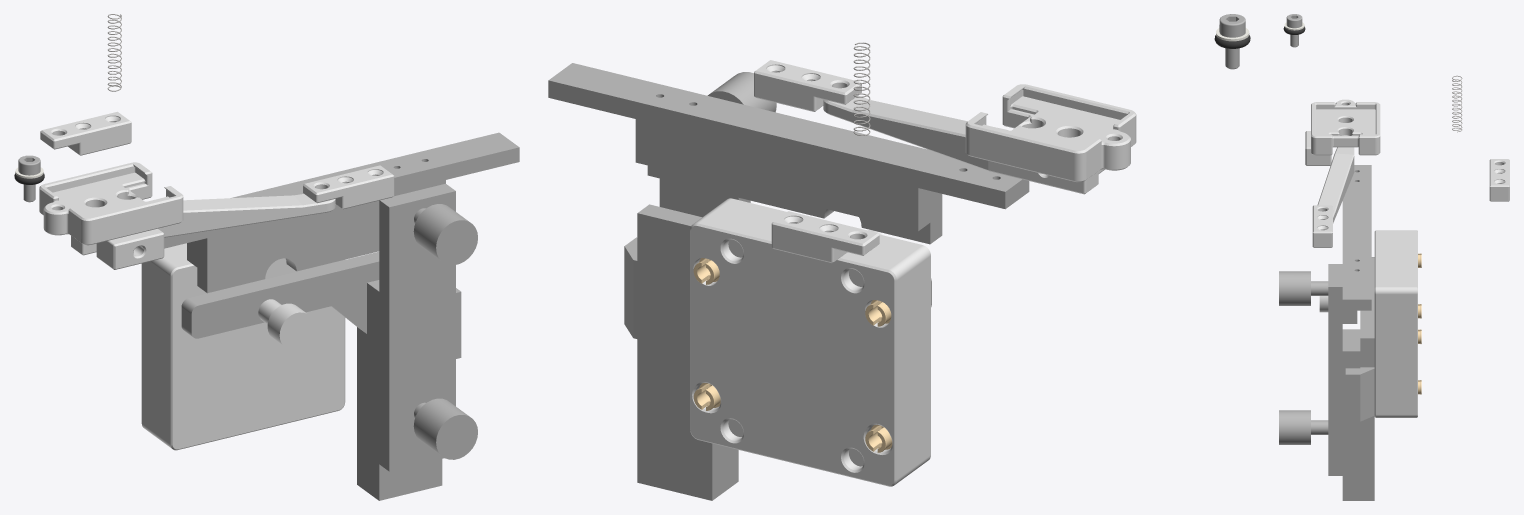
Rendered from ASS_-_3003_-_PUZMANXYSDIA002.glb.
3 renders of one model, left to right at view 1: azimuth 30°, elevation 25°; view 2: azimuth 150°, elevation 25°; view 3: azimuth 270°, elevation 25°, orthographic. The views are drawn at different scales.
Visible parts, largest first — view 1: BUY - XY stage - XXX --- X stage:1, PRT - 3006 - MANXYSMNT:1, BUY - XY stage - XXX --- Base:1, PRT - 3007 - DIAPLAHOL - A:1, BUY - XY stage - XXX --- Y stage:1, PRT - 3012 - LVR:1, PRT - 3013 - BRG:2, PRT - 3013 - BRG:1, PRT - 3011 - MNTZAX:1, ISO 4762 - Hex socket head cap screw - M3 x 8 - 8.8 - A2K:1, BUY - Gutekunst - Compression spring - VD-015:1; view 2: PRT - 3006 - MANXYSMNT:1, BUY - XY stage - XXX --- X stage:1, BUY - XY stage - XXX --- Y stage:1, BUY - XY stage - XXX --- Base:1, PRT - 3007 - DIAPLAHOL - A:1, PRT - 3012 - LVR:1, PRT - 3013 - BRG:2, PRT - 3013 - BRG:1, ISO 4762 - Hex socket head cap screw - M3 x 8 - 8.8 - A2K:1, BUY - Gutekunst - Compression spring - VD-015:1; view 3: PRT - 3006 - MANXYSMNT:1, BUY - XY stage - XXX --- Base:1, BUY - XY stage - XXX --- X stage:1, BUY - XY stage - XXX --- Y stage:1, PRT - 3007 - DIAPLAHOL - A:1, PRT - 3012 - LVR:1, PRT - 3013 - BRG:1, PRT - 3013 - BRG:2, PRT - 3011 - MNTZAX:1, BUY - Gutekunst - Compression spring - VD-015:1, ISO 4762 - Hex socket head cap screw - M3 x 8 - 8.8 - A2K:1.
Boxes of the visible parts, box(x1,y1,x2,y2) form: BUY - XY stage - XXX --- X stage:1: box(187, 180, 477, 471); PRT - 3006 - MANXYSMNT:1: box(141, 243, 345, 450); BUY - XY stage - XXX --- Base:1: box(181, 251, 461, 500); PRT - 3007 - DIAPLAHOL - A:1: box(39, 162, 183, 245); BUY - XY stage - XXX --- Y stage:1: box(164, 132, 519, 248); PRT - 3012 - LVR:1: box(71, 194, 335, 255); PRT - 3013 - BRG:2: box(40, 111, 131, 155); PRT - 3013 - BRG:1: box(303, 165, 394, 209); PRT - 3011 - MNTZAX:1: box(96, 228, 164, 269); ISO 4762 - Hex socket head cap screw - M3 x 8 - 8.8 - A2K:1: box(18, 155, 40, 202); BUY - Gutekunst - Compression spring - VD-015:1: box(107, 14, 121, 91); PRT - 3006 - MANXYSMNT:1: box(690, 198, 930, 486); BUY - XY stage - XXX --- X stage:1: box(635, 72, 942, 244); BUY - XY stage - XXX --- Y stage:1: box(548, 63, 1029, 209); BUY - XY stage - XXX --- Base:1: box(624, 204, 931, 500); PRT - 3007 - DIAPLAHOL - A:1: box(965, 84, 1136, 182); PRT - 3012 - LVR:1: box(823, 95, 1098, 194); PRT - 3013 - BRG:2: box(771, 211, 879, 263); PRT - 3013 - BRG:1: box(754, 60, 861, 111); ISO 4762 - Hex socket head cap screw - M3 x 8 - 8.8 - A2K:1: box(1219, 14, 1245, 69); BUY - Gutekunst - Compression spring - VD-015:1: box(853, 42, 870, 135); PRT - 3006 - MANXYSMNT:1: box(1374, 230, 1417, 417); BUY - XY stage - XXX --- Base:1: box(1319, 257, 1374, 500); BUY - XY stage - XXX --- X stage:1: box(1279, 264, 1371, 475); BUY - XY stage - XXX --- Y stage:1: box(1342, 165, 1371, 310); PRT - 3007 - DIAPLAHOL - A:1: box(1311, 99, 1380, 155); PRT - 3012 - LVR:1: box(1317, 147, 1354, 223); PRT - 3013 - BRG:1: box(1312, 205, 1332, 247); PRT - 3013 - BRG:2: box(1489, 159, 1509, 201); PRT - 3011 - MNTZAX:1: box(1305, 131, 1331, 165); BUY - Gutekunst - Compression spring - VD-015:1: box(1452, 75, 1462, 132); ISO 4762 - Hex socket head cap screw - M3 x 8 - 8.8 - A2K:1: box(1286, 14, 1302, 47).
Size of the model in its own units: 153 by 128 by 79.72.
